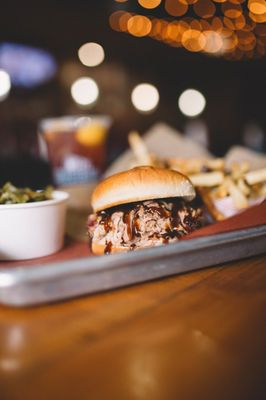sushi: (0, 182, 71, 261)
